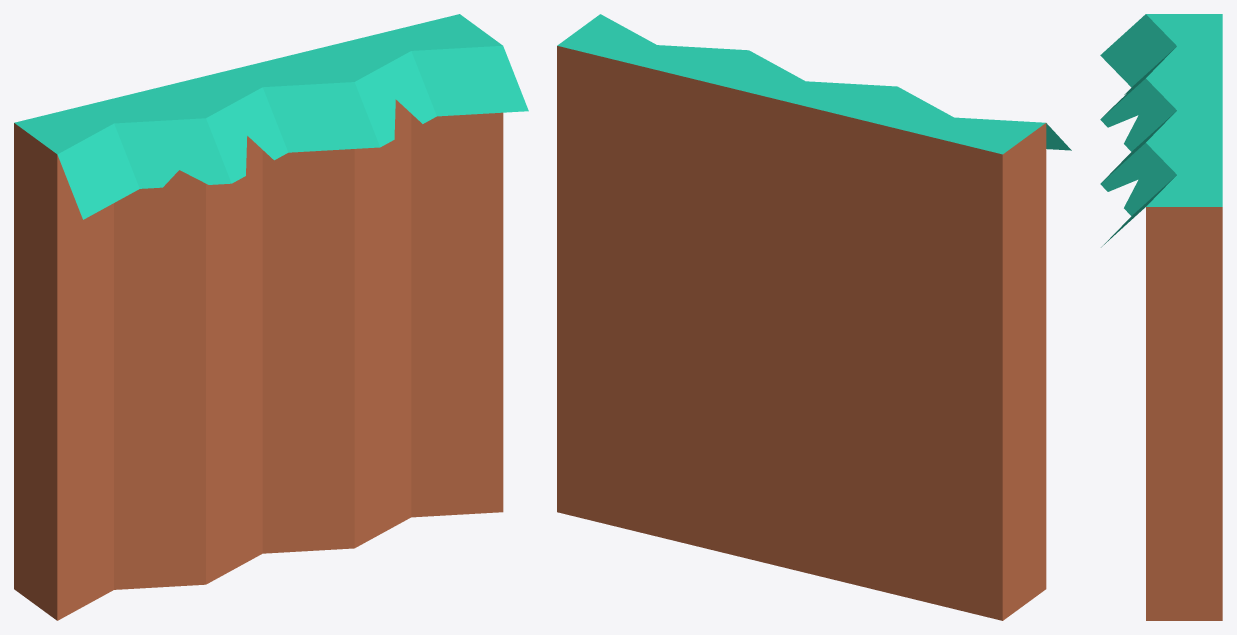
The model's file is cliff_top_rock.dae.
3 renders of one model, left to right at view 1: azimuth 30°, elevation 25°; view 2: azimuth 150°, elevation 25°; view 3: azimuth 270°, elevation 25°, orthographic. The views are drawn at different scales.
Visible parts, largest first — view 1: cliff_top_rock; view 2: cliff_top_rock; view 3: cliff_top_rock.
Part boxes in pixels (box(x1,y1,x2,y2)): cliff_top_rock: box(14, 14, 528, 620); cliff_top_rock: box(557, 14, 1071, 620); cliff_top_rock: box(1100, 14, 1222, 620).
Bounding box in the file's own units: 1 × 1 × 0.2685.
